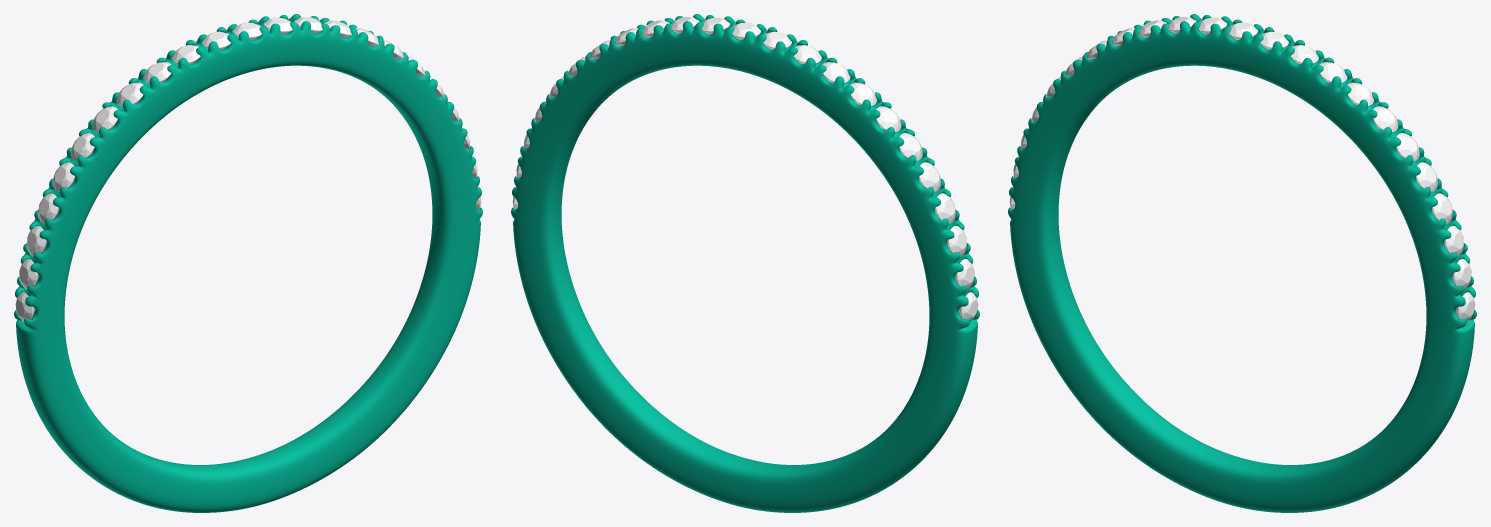
File: BE2D1823_RENDER.glb
The picture shows the model from 3 angles, left to right: view 1: azimuth 30°, elevation 25°; view 2: azimuth 150°, elevation 25°; view 3: azimuth 330°, elevation 25°; orthographic projection.
Parts seen in each view (by area): view 1: Metal03; view 2: Metal03; view 3: Metal03.
Boxes of the visible parts, bbox=[...] form: Metal03: bbox=[14, 14, 482, 512]; Metal03: bbox=[511, 14, 979, 512]; Metal03: bbox=[1008, 14, 1476, 512].
Bounding box in the file's own units: 20.2 × 20.2 × 1.4.
